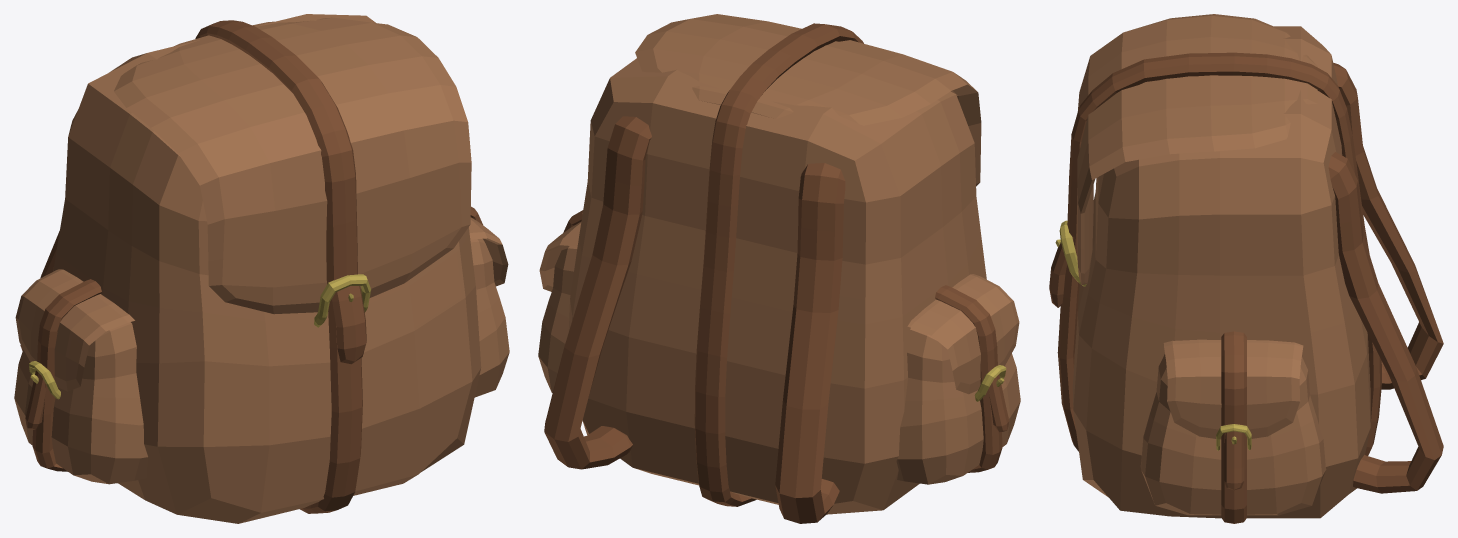
The model's file is backpack_lighter_brown.glb.
3 renders of one model, left to right at view 1: azimuth 30°, elevation 25°; view 2: azimuth 150°, elevation 25°; view 3: azimuth 270°, elevation 25°, orthographic. The views are drawn at different scales.
Visible parts, largest first — view 1: Backpack; view 2: Backpack; view 3: Backpack.
Part boxes in pixels (<box>): Backpack: <box>14,14,509,523</box>; Backpack: <box>538,14,1020,523</box>; Backpack: <box>1049,14,1443,523</box>.
Size of the model in its own units: 1.07 by 0.9506 by 0.8037.
